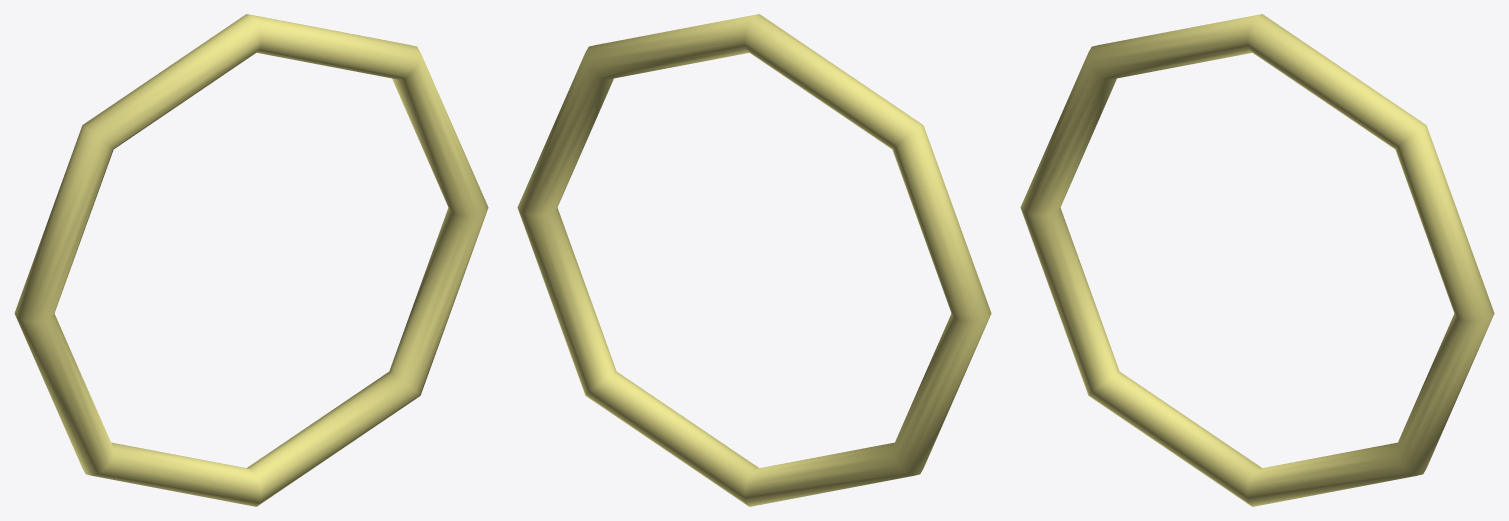
The model's file is ringGold.FBX.
3 views of the same model, side by side, from view 1: azimuth 30°, elevation 25°; view 2: azimuth 150°, elevation 25°; view 3: azimuth 330°, elevation 25° (orthographic).
Visible parts, largest first — view 1: Torus01; view 2: Torus01; view 3: Torus01.
Boxes of the visible parts, x1,y1,x2,y2 form: Torus01: (14, 14, 488, 506); Torus01: (517, 14, 991, 506); Torus01: (1020, 14, 1494, 506).
Size of the model in its own units: 108 by 108 by 8.
